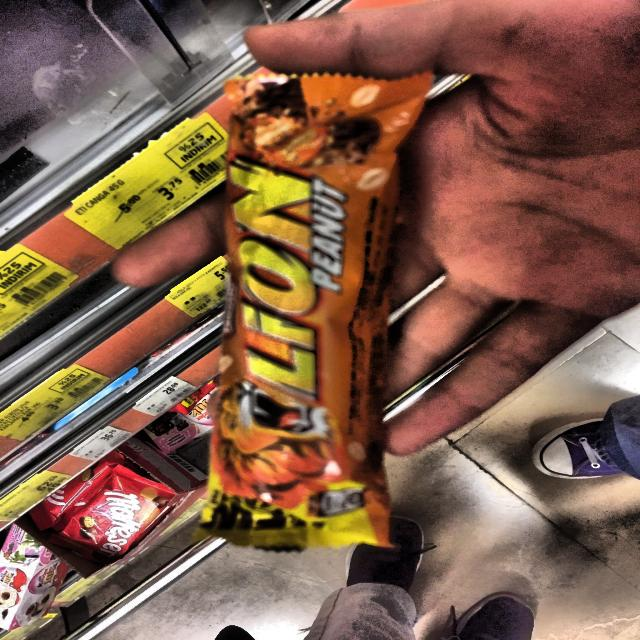Plastic: (206, 62, 439, 545)
